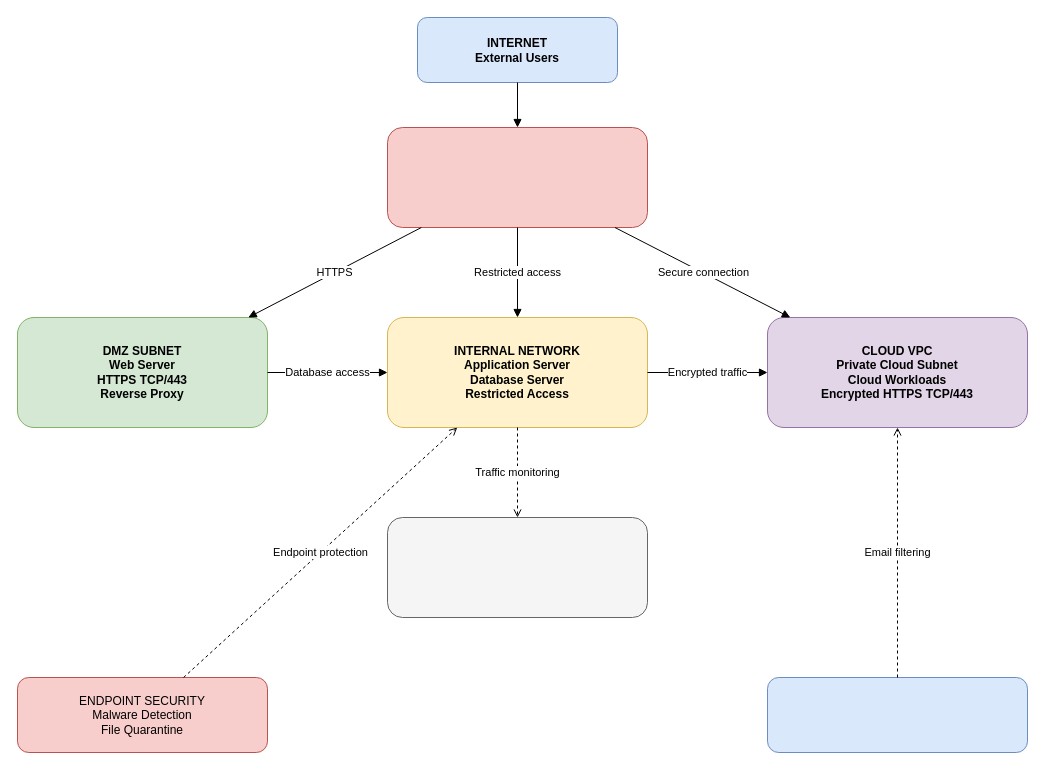
This 1045x770 diagram has some shape labels left out. The centre of each missing label's shape, as x and y in pixels:
"EMAIL SECURITY SPF / DKIM / DMARC Suspicious Email Quarantine" belongs at [897,714].
"IDS / IPS Network Traffic Monitoring Port Scan Detection Security Alerts" belongs at [517,567].
"PERIMETER FIREWALL Stateful Inspection Application Filtering Default Deny" belongs at [517,177].
